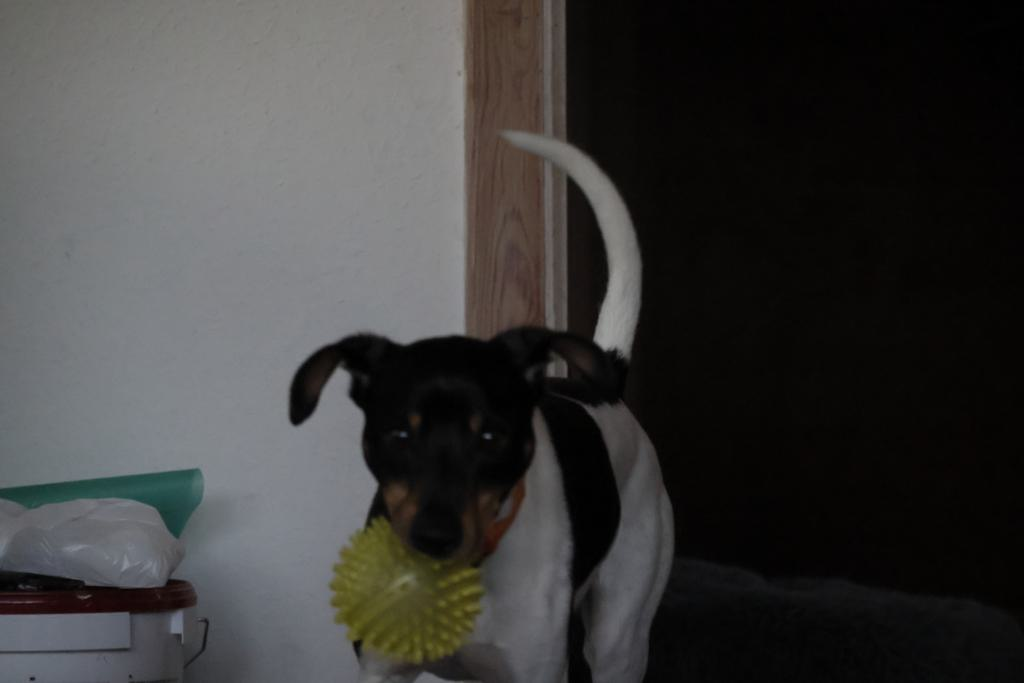Dog: (264, 120, 700, 683)
